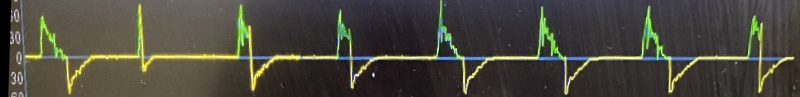hydrop_flow: (16, 0, 792, 97)
